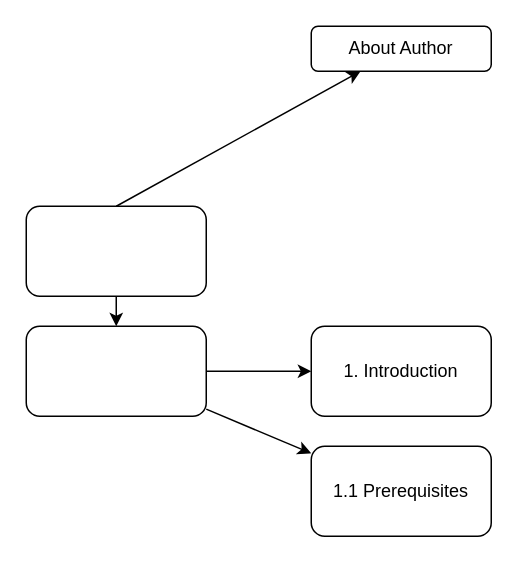
Image size: 518x563. Some labels were removed from this diagram. The shapes that lost their labels are listed below. From the top down, each one's centre as x and y in pixels, then its label:
At [115,250]: "Beyond Diagrams".
At [115,370]: "Chapters".
